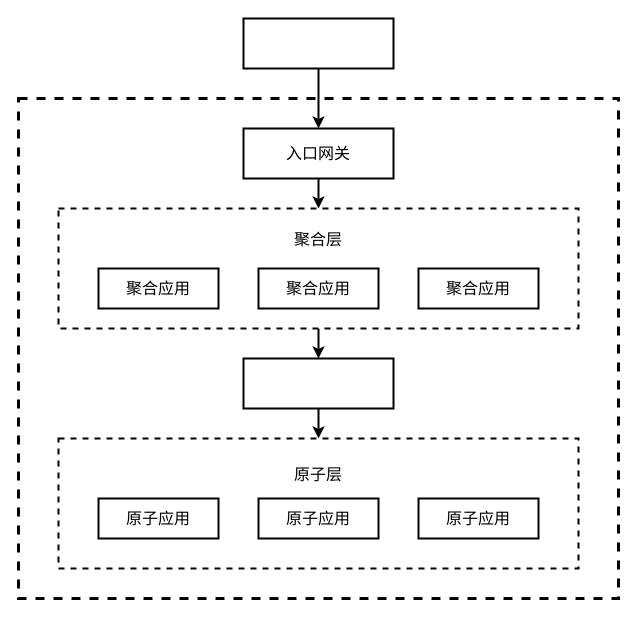
Some shapes in this 637 by 617 pixel diagram are drawn without their labels. Each missing label, with the centre of its shape:
"原子层网关" belongs at (318,383).
"接入方" belongs at (318,43).
